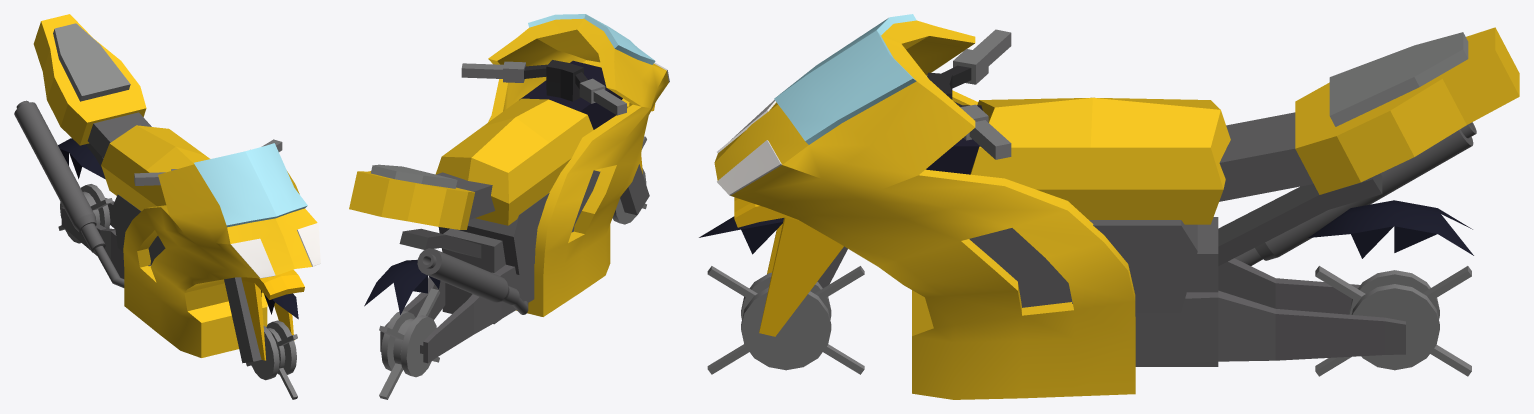
Rendered from body.glb.
The picture shows the model from 3 angles, left to right: view 1: azimuth 30°, elevation 25°; view 2: azimuth 150°, elevation 25°; view 3: azimuth 270°, elevation 25°; orthographic projection. The views are drawn at different scales.
Parts seen in each view (by area): view 1: Cube.212_Texture_0; view 2: Cube.212_Texture_0; view 3: Cube.212_Texture_0.
Part boxes in pixels (x1=…): Cube.212_Texture_0: x1=14, y1=14, x2=320, y2=399; Cube.212_Texture_0: x1=349, y1=14, x2=669, y2=399; Cube.212_Texture_0: x1=699, y1=14, x2=1519, y2=399.
Size of the model in its own units: 5.14 by 7.06 by 15.25.
1 material, 1 textured.
